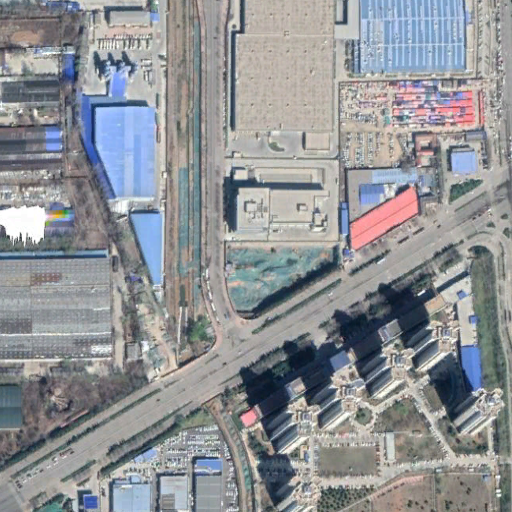cw: (174, 16, 203, 325), (225, 241, 337, 318)
